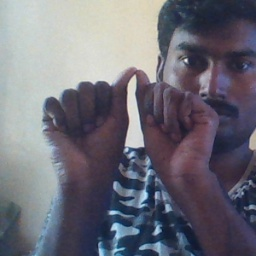A: (53, 63, 199, 171)
